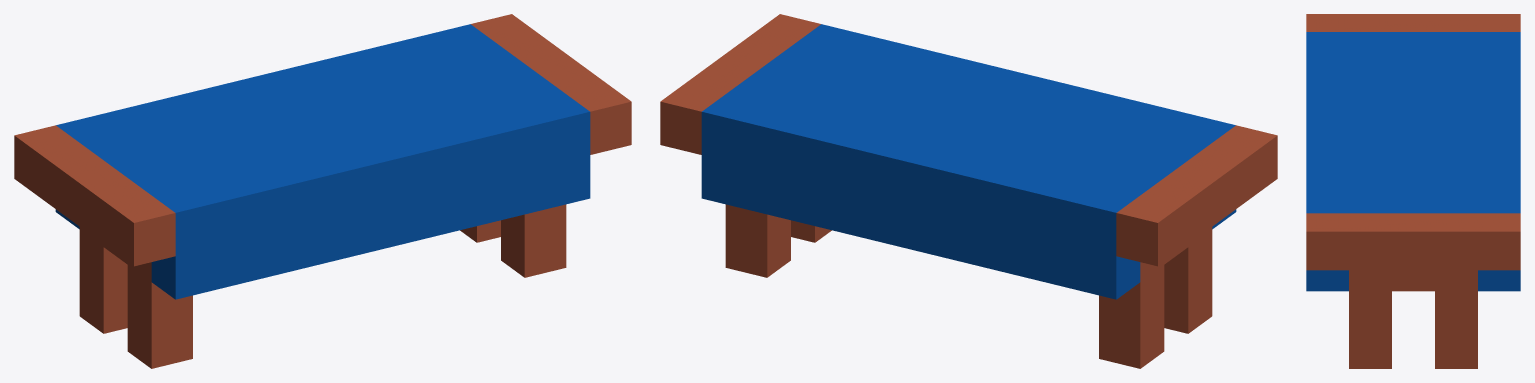
Rendered from large_bench_a_blue.obj.
3 views of the same model, side by side, from view 1: azimuth 30°, elevation 25°; view 2: azimuth 150°, elevation 25°; view 3: azimuth 270°, elevation 25° (orthographic). The views are drawn at different scales.
Bounding box in the file's own units: 1.2 × 0.4 × 0.5.
Materials: 1 (1 with a texture image).
